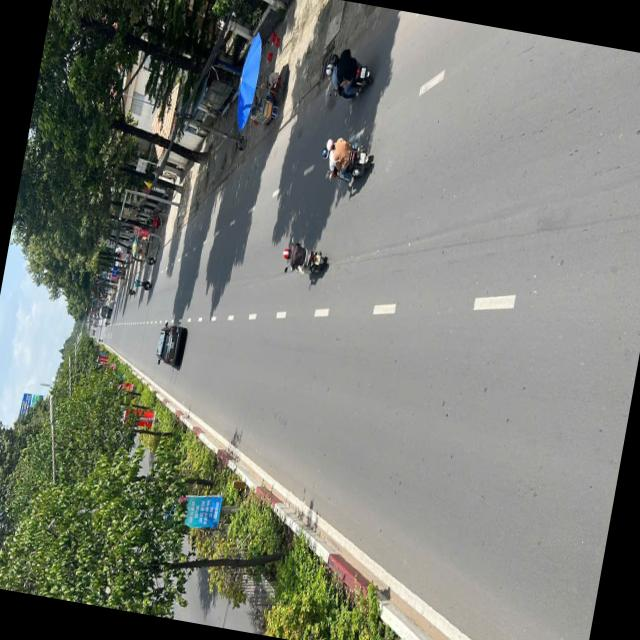ben: (96, 300, 115, 321)
car: (151, 318, 191, 367)
motobyte: (318, 45, 382, 103), (316, 131, 378, 188), (275, 233, 332, 280), (136, 273, 156, 294), (140, 250, 158, 268), (130, 270, 145, 288), (122, 282, 136, 296)
